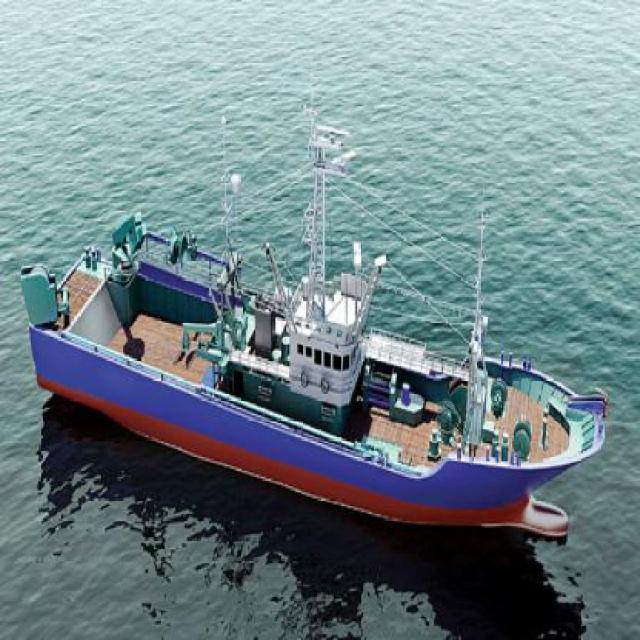fish-b: (14, 72, 613, 555)
